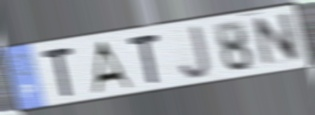8: (214, 20, 255, 73)
A: (91, 39, 135, 95)
J: (178, 23, 212, 81)
N: (251, 11, 303, 70)
T: (39, 45, 76, 99), (126, 31, 162, 86)
